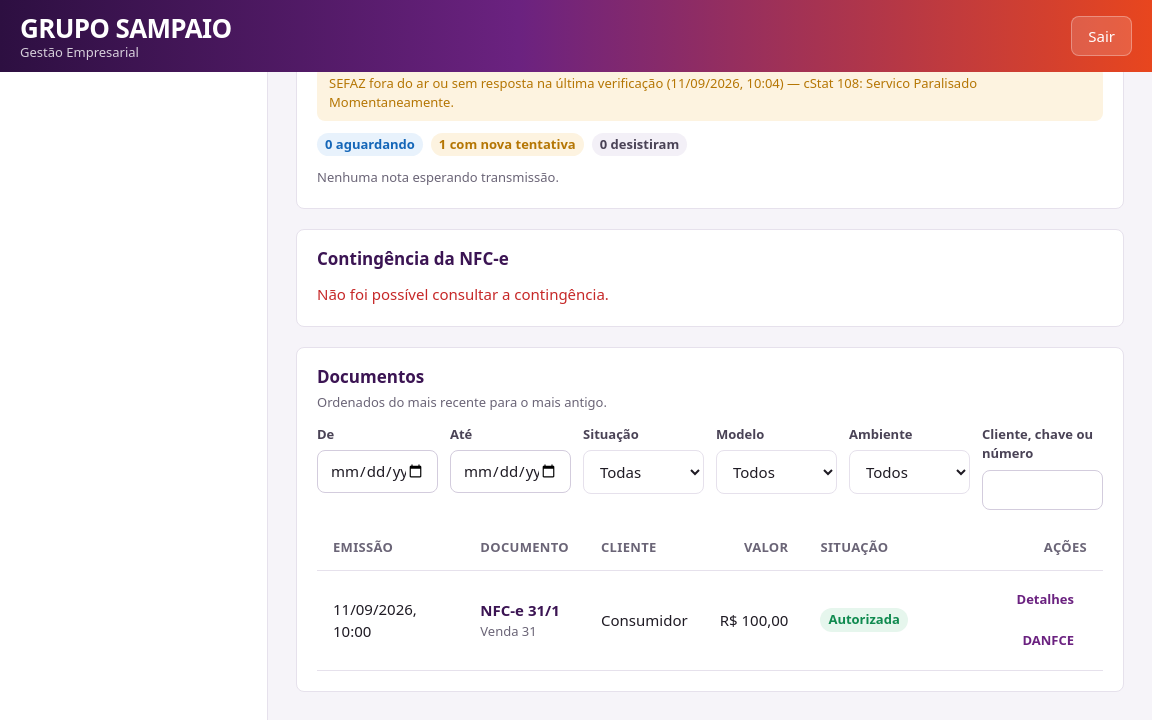
Test: o gesto no detalhe da nota › nota autorizada não tem o gesto
The width and height of the screenshot is (1152, 720).
(page scrolled)
Click the button "Detalhes" at {"x": 1045, "y": 599}, box x1=1004 y1=582 x2=1087 y2=616
(page scrolled)
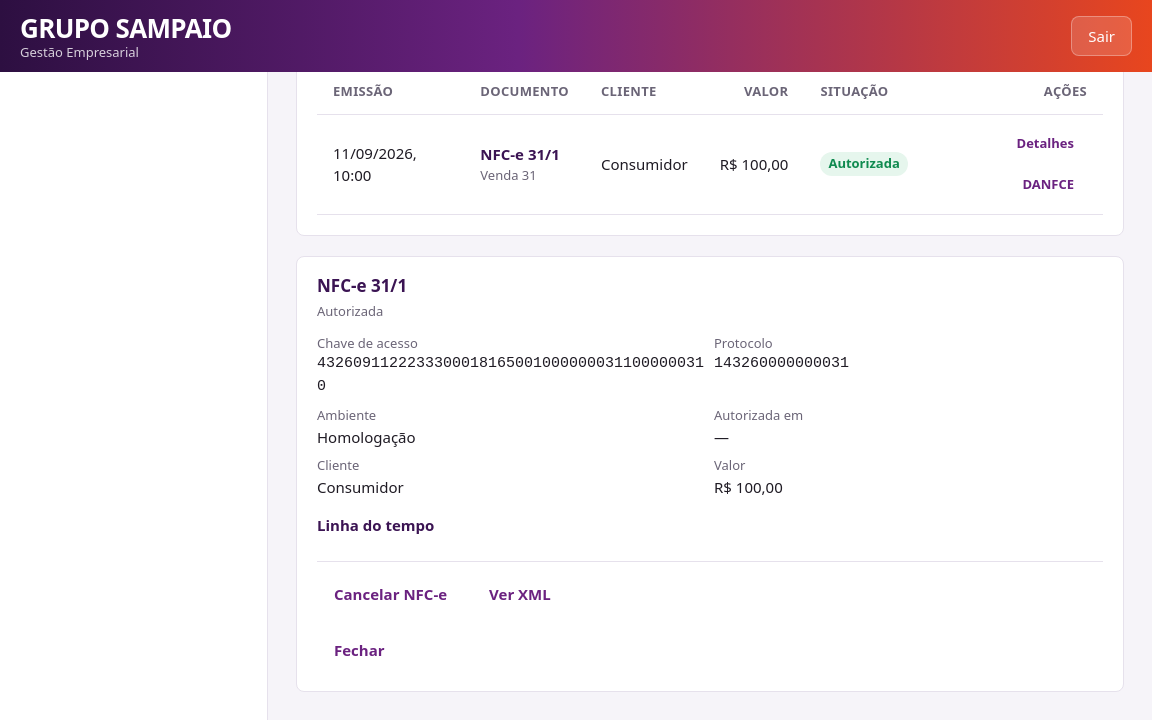
Check: the button "Cancelar NFC-e" is shown, box x1=317 y1=574 x2=464 y2=614
